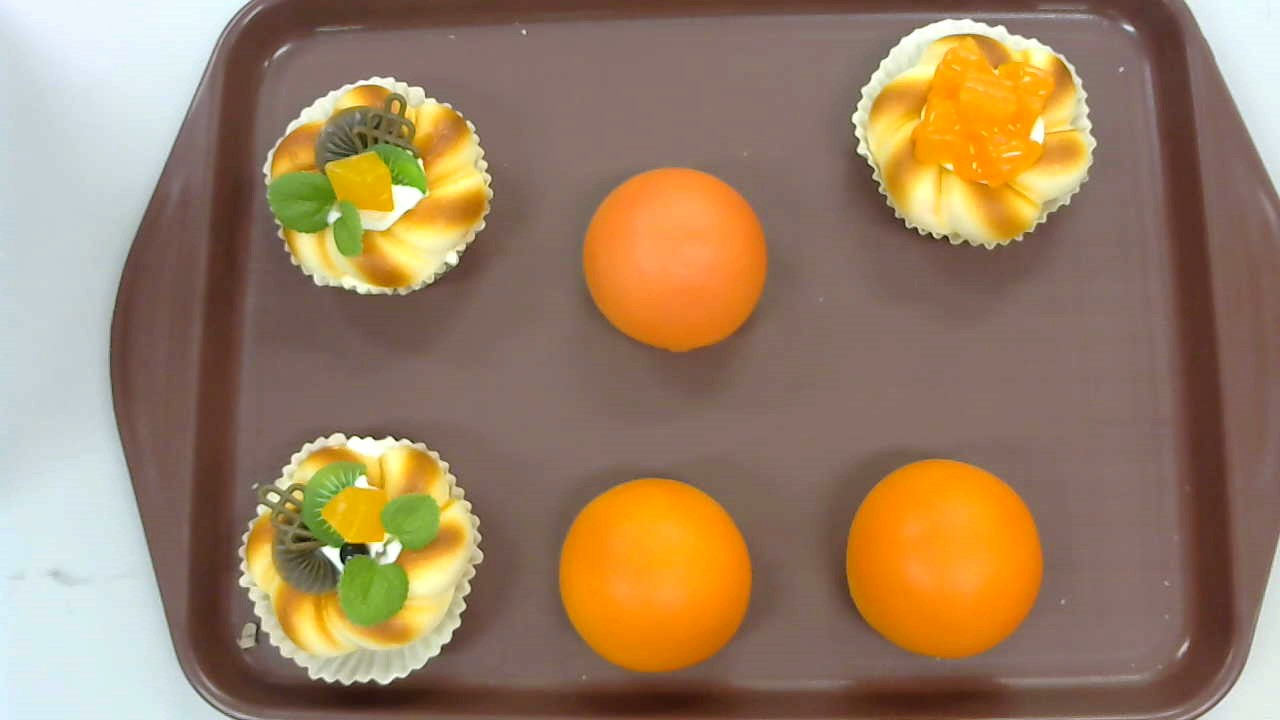bun: (845, 459, 1045, 658), (558, 476, 751, 673), (583, 166, 766, 353)
fruit tart: (239, 431, 482, 684), (263, 75, 496, 296)
mango tart: (851, 17, 1097, 250)
